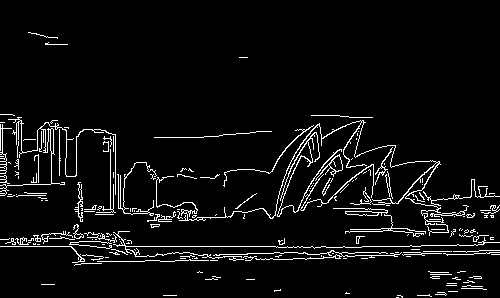opera house: (194, 105, 470, 244)
